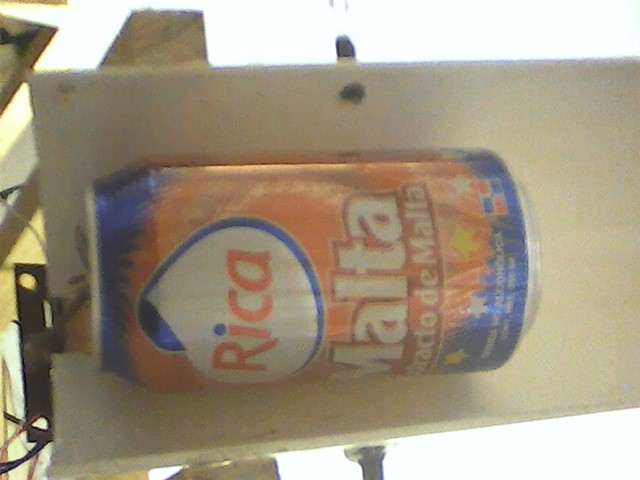lata: (82, 150, 555, 394)
